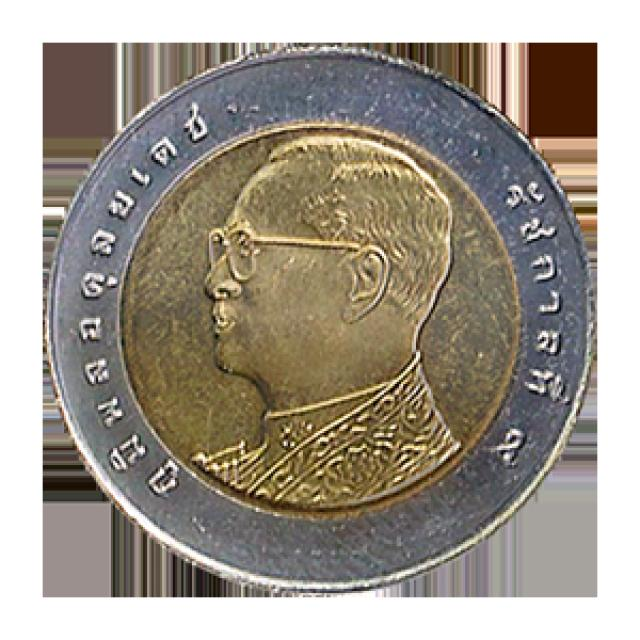10 Bath: (41, 45, 598, 599)
